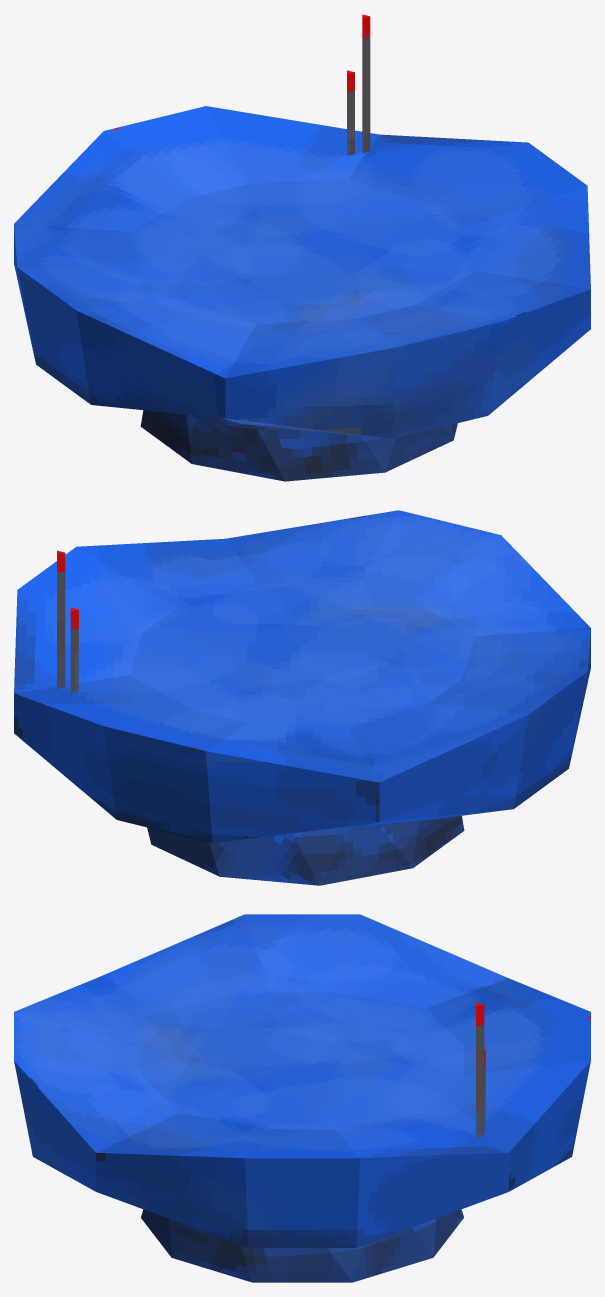
File: drone_body.glb
The picture shows the model from 3 angles, top to bottom: view 1: azimuth 30°, elevation 25°; view 2: azimuth 150°, elevation 25°; view 3: azimuth 270°, elevation 25°; orthographic projection. The views are drawn at different scales.
Parts seen in each view (by area): view 1: Cube; view 2: Cube; view 3: Cube.
Boxes of the visible parts, <box> form: Cube: <box>14,14,590,481</box>; Cube: <box>14,510,590,885</box>; Cube: <box>14,914,590,1282</box>.
Bounding box in the file's own units: 1.07 × 0.5848 × 1.07.
Materials: 1 (1 with a texture image).
